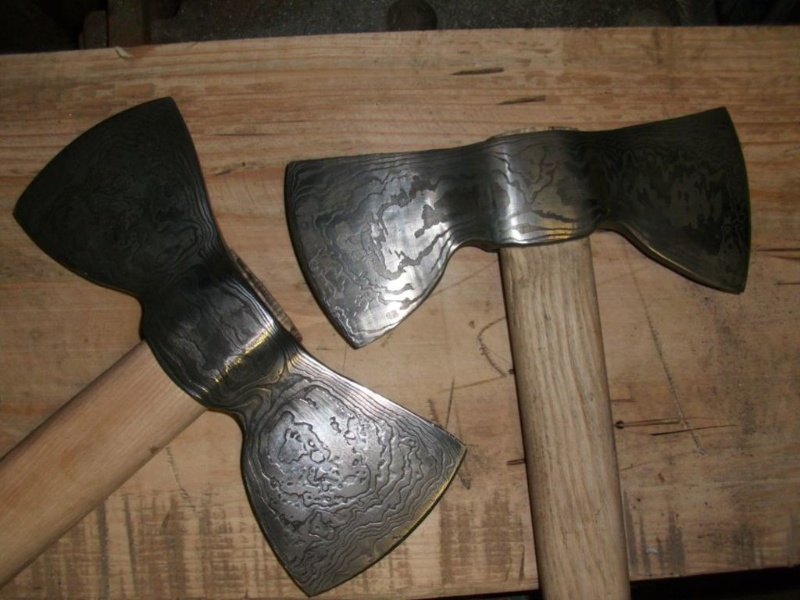axe: (14, 94, 472, 600), (281, 106, 779, 360)
